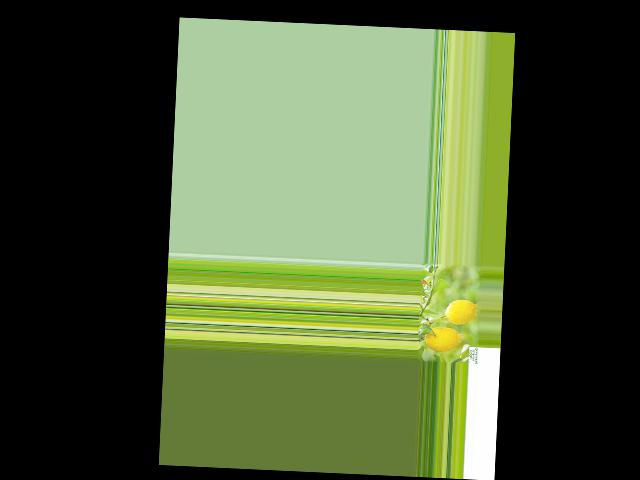lemon: (422, 322, 463, 354)
